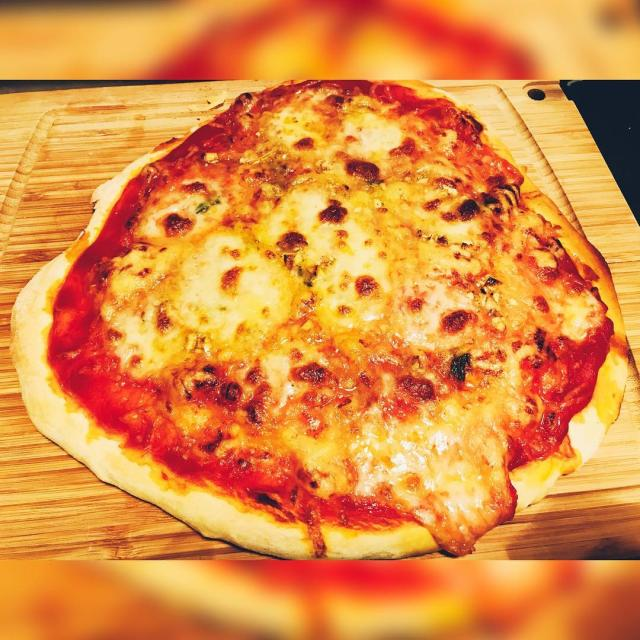pizza: (13, 80, 640, 562)
